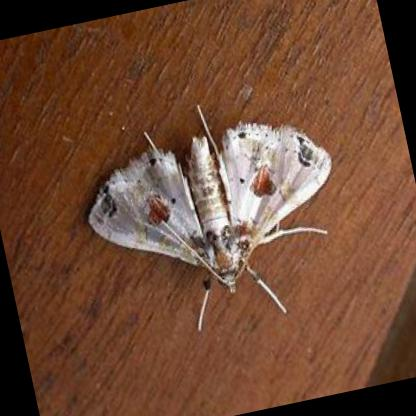leucinodes: (89, 123, 329, 281)
